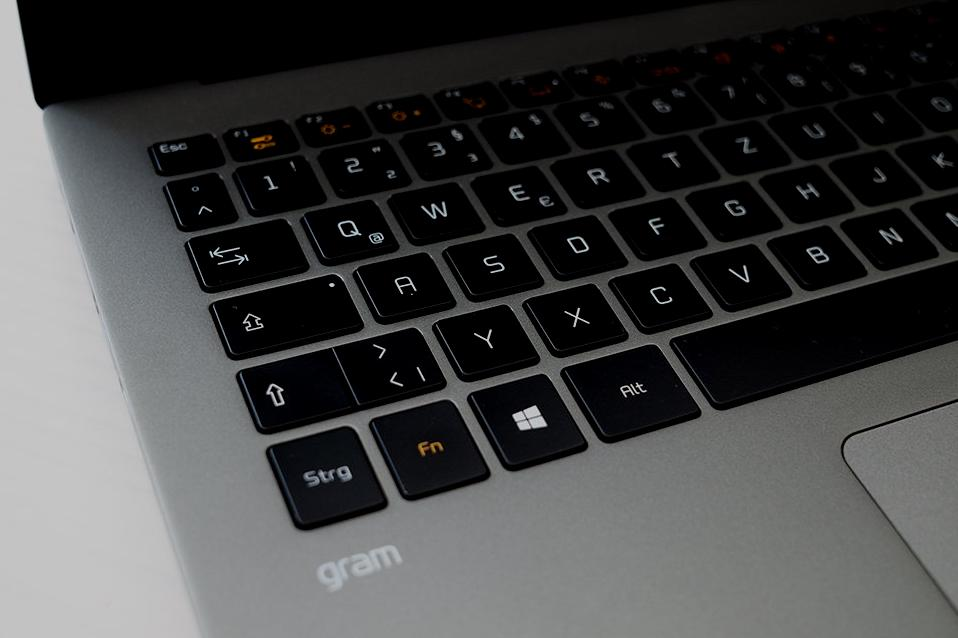0: (890, 36, 958, 84)
1: (232, 152, 325, 209)
2: (317, 136, 411, 191)
3: (398, 122, 491, 174)
4: (479, 109, 570, 157)
5: (553, 96, 642, 143)
6: (626, 82, 714, 128)
7: (695, 69, 777, 113)
8: (763, 59, 845, 103)
9: (824, 49, 906, 93)
a: (352, 249, 458, 318)
alt-left: (557, 340, 702, 439)
b: (765, 222, 868, 284)
c: (607, 261, 714, 328)
caret: (164, 171, 236, 226)
d: (526, 212, 630, 276)
e: (469, 164, 567, 220)
f: (608, 194, 708, 254)
g: (685, 178, 784, 236)
h: (758, 162, 853, 217)
i: (831, 96, 923, 144)
j: (831, 148, 921, 201)
k: (897, 133, 958, 185)
keyboard: (124, 1, 958, 554)
less: (329, 324, 448, 403)
m: (913, 190, 958, 247)
n: (840, 206, 938, 264)
o: (898, 82, 958, 130)
q: (299, 196, 401, 259)
r: (550, 148, 645, 202)
s: (439, 230, 546, 296)
shift-left: (235, 345, 353, 430)
shift-lock: (206, 270, 364, 356)
space: (666, 247, 958, 409)
strg-left: (265, 420, 388, 526)
t: (627, 133, 718, 185)
tab: (183, 216, 309, 287)
u: (766, 106, 858, 154)
v: (688, 241, 793, 304)
w: (387, 179, 485, 237)
x: (522, 282, 629, 350)
y: (432, 303, 541, 374)
z: (699, 120, 789, 169)
